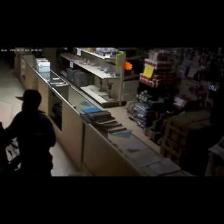person: (5, 90, 55, 176)
